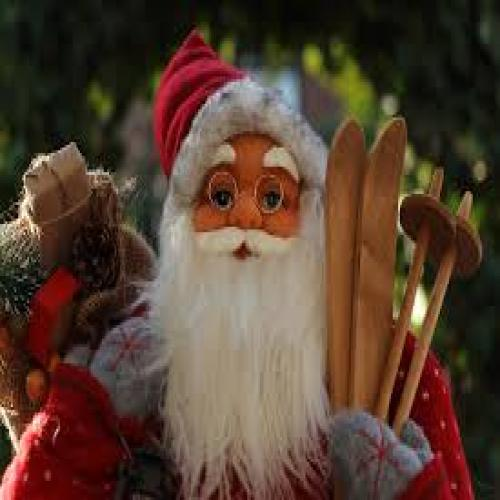Santa: (0, 24, 476, 500)
